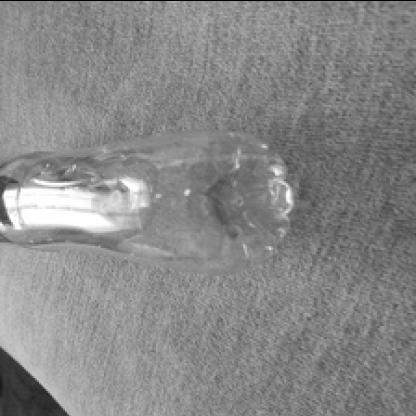plastic_bottles: (0, 116, 310, 270)
